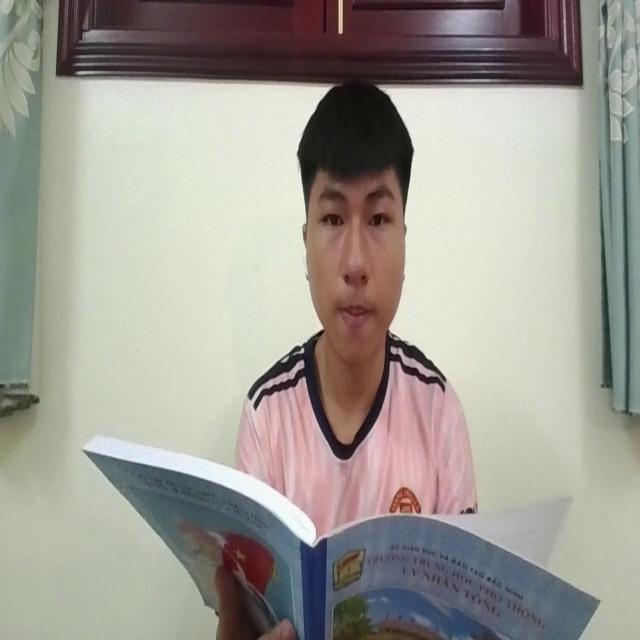book: (78, 421, 599, 640)
student: (232, 74, 486, 524)
